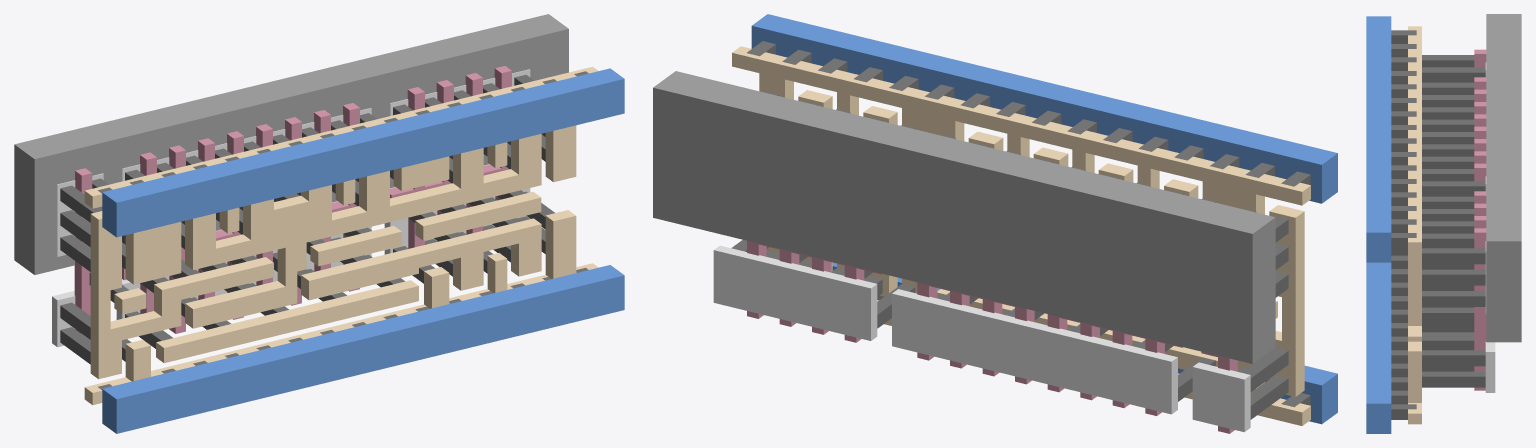
File: sky130_fd_sc_hd__nand3b_4.gds.gltf
3 views of the same model, side by side, from view 1: azimuth 30°, elevation 25°; view 2: azimuth 150°, elevation 25°; view 3: azimuth 270°, elevation 25° (orthographic). The views are drawn at different scales.
Parts seen in each view (by area): view 1: sky130_fd_sc_hd__nand3b_4_li1, sky130_fd_sc_hd__nand3b_4_met1, sky130_fd_sc_hd__nand3b_4_nwell, sky130_fd_sc_hd__nand3b_4_licon, sky130_fd_sc_hd__nand3b_4_poly, sky130_fd_sc_hd__nand3b_4_diff, sky130_fd_sc_hd__nand3b_4_mcon; view 2: sky130_fd_sc_hd__nand3b_4_nwell, sky130_fd_sc_hd__nand3b_4_diff, sky130_fd_sc_hd__nand3b_4_li1, sky130_fd_sc_hd__nand3b_4_met1, sky130_fd_sc_hd__nand3b_4_licon, sky130_fd_sc_hd__nand3b_4_mcon, sky130_fd_sc_hd__nand3b_4_poly; view 3: sky130_fd_sc_hd__nand3b_4_licon, sky130_fd_sc_hd__nand3b_4_nwell, sky130_fd_sc_hd__nand3b_4_met1, sky130_fd_sc_hd__nand3b_4_mcon, sky130_fd_sc_hd__nand3b_4_li1, sky130_fd_sc_hd__nand3b_4_poly, sky130_fd_sc_hd__nand3b_4_diff.
Boxes of the visible parts, x1,y1,x2,y2 form: sky130_fd_sc_hd__nand3b_4_li1: [84, 66, 598, 405]; sky130_fd_sc_hd__nand3b_4_met1: [102, 68, 624, 433]; sky130_fd_sc_hd__nand3b_4_nwell: [14, 14, 568, 274]; sky130_fd_sc_hd__nand3b_4_licon: [60, 74, 554, 364]; sky130_fd_sc_hd__nand3b_4_poly: [74, 66, 511, 340]; sky130_fd_sc_hd__nand3b_4_diff: [52, 69, 530, 347]; sky130_fd_sc_hd__nand3b_4_mcon: [98, 71, 588, 389]; sky130_fd_sc_hd__nand3b_4_nwell: [653, 71, 1275, 363]; sky130_fd_sc_hd__nand3b_4_diff: [713, 245, 1250, 432]; sky130_fd_sc_hd__nand3b_4_li1: [732, 46, 1310, 425]; sky130_fd_sc_hd__nand3b_4_met1: [751, 14, 1337, 424]; sky130_fd_sc_hd__nand3b_4_licon: [731, 91, 1288, 419]; sky130_fd_sc_hd__nand3b_4_mcon: [747, 41, 1310, 407]; sky130_fd_sc_hd__nand3b_4_poly: [747, 241, 1237, 433]; sky130_fd_sc_hd__nand3b_4_licon: [1422, 55, 1485, 387]; sky130_fd_sc_hd__nand3b_4_nwell: [1486, 14, 1521, 342]; sky130_fd_sc_hd__nand3b_4_met1: [1366, 16, 1391, 433]; sky130_fd_sc_hd__nand3b_4_mcon: [1391, 30, 1416, 419]; sky130_fd_sc_hd__nand3b_4_li1: [1408, 26, 1421, 424]; sky130_fd_sc_hd__nand3b_4_poly: [1474, 49, 1486, 390]; sky130_fd_sc_hd__nand3b_4_diff: [1485, 62, 1495, 392].
Size of the model in its own units: 7.74 by 3.2 by 2.24.
